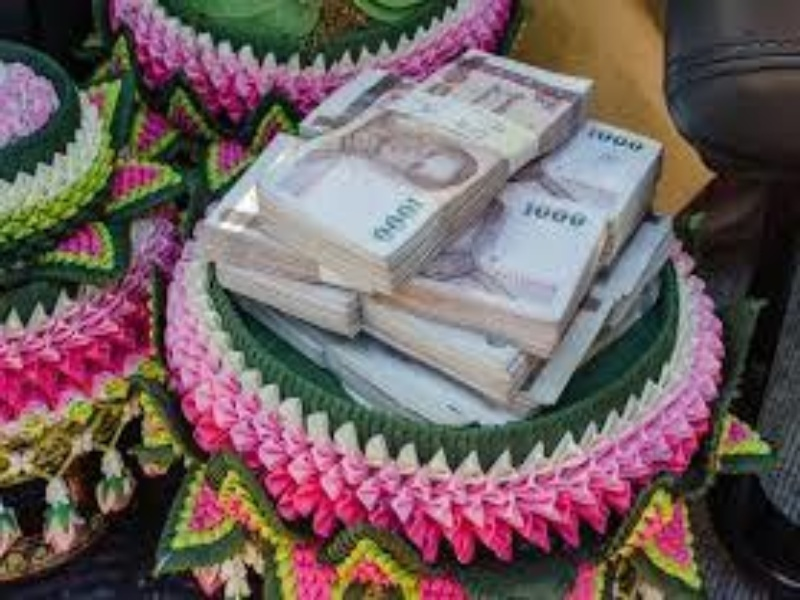cash: (204, 49, 675, 430)
